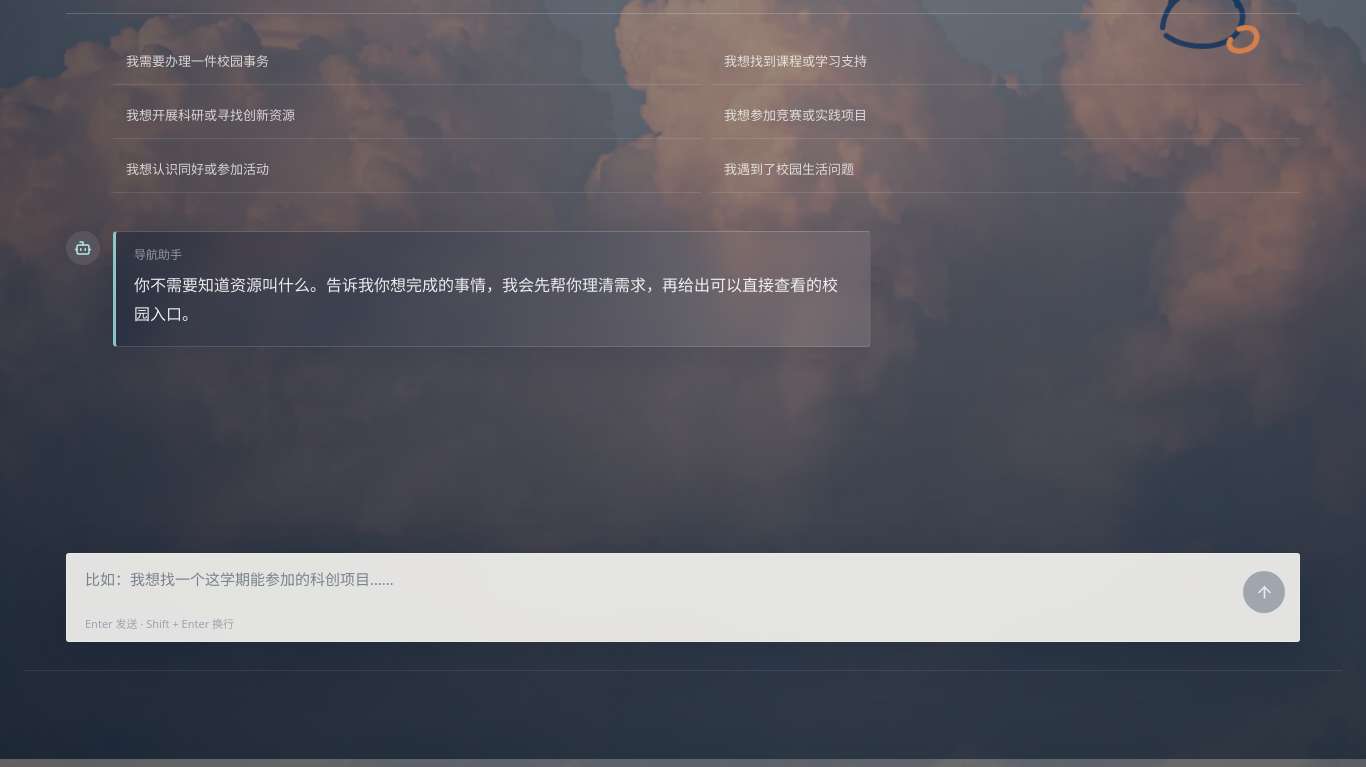
Test case: AssistantPage › shows a retryable error instead of losing the conversation
This screenshot has width=1366, height=767.
(page scrolled)
Type "查询校医院" into the text box named "描述你的需求" at (664, 592), box [85,568,1243,616]
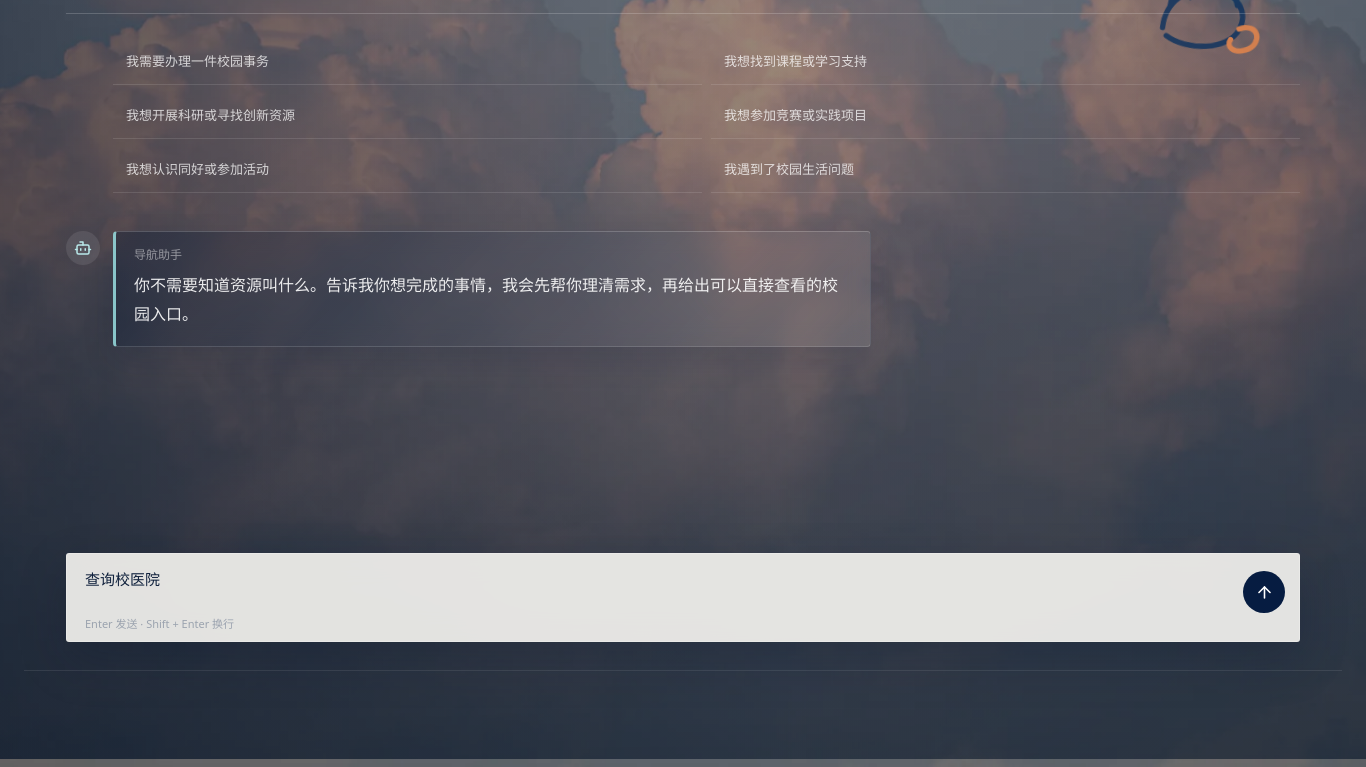
Press Enter
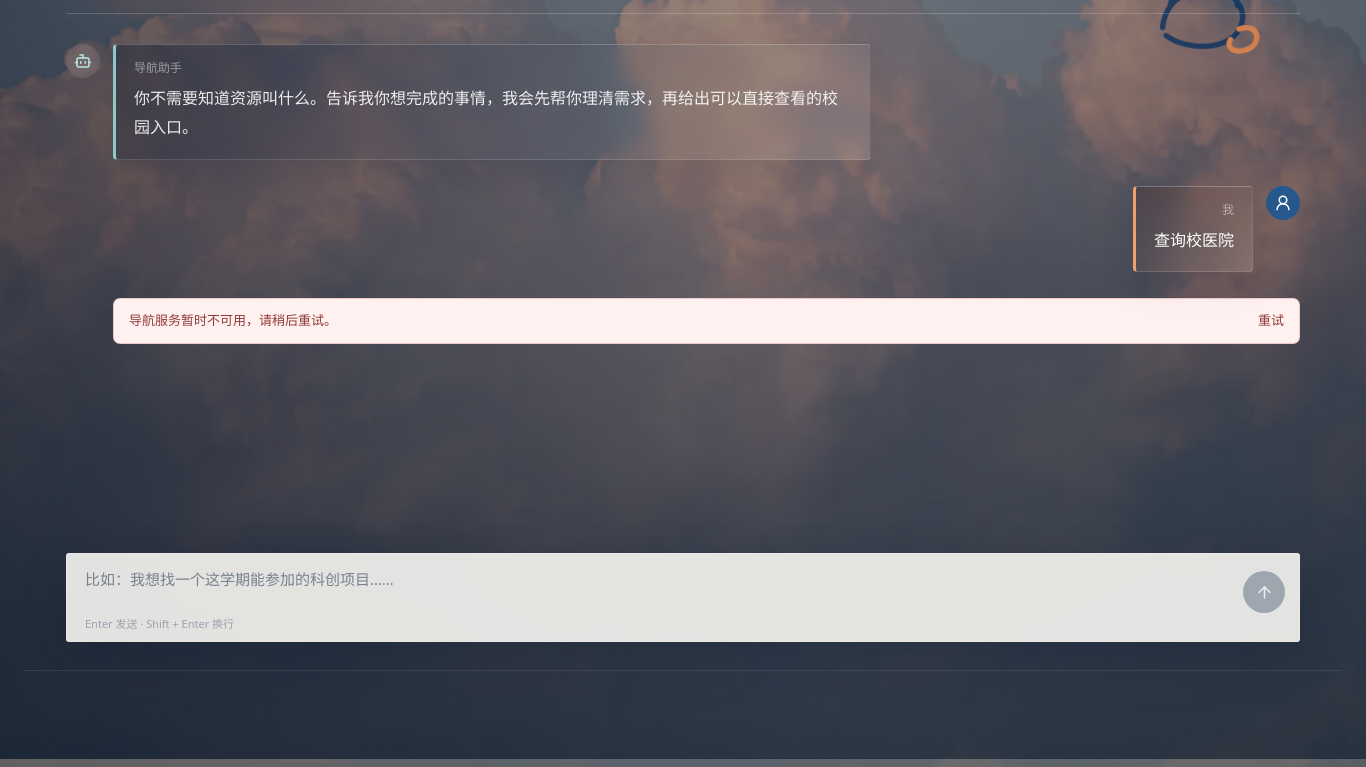
Result: the message shows "导航服务暂时不可用" at [129,312,337,330]
Result: the button "重试" is shown at [1258,312,1284,331]
Result: the text "查询校医院" is shown at [1154,226,1234,256]
